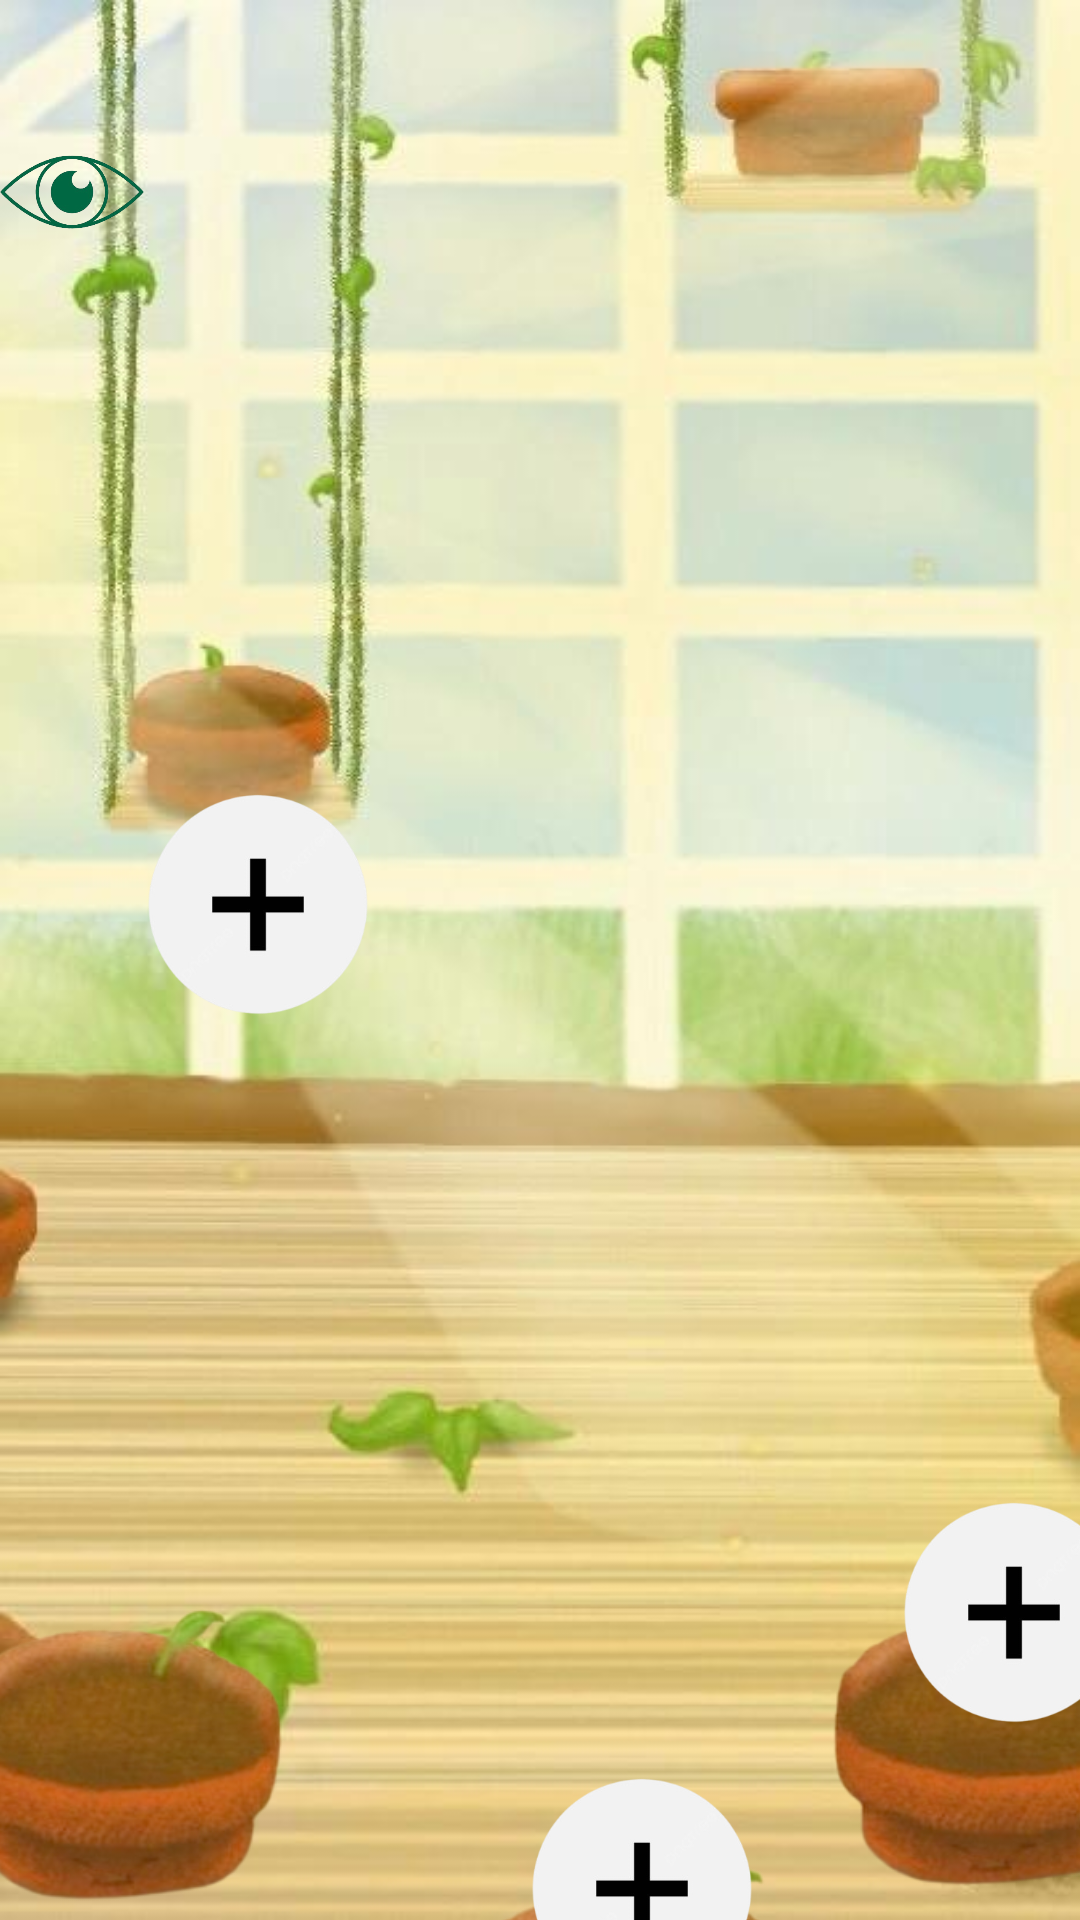

Screen size 1080w x 1920h. Icon name, then its center in pixels as (x,y):
buton ojo: (72,192)
